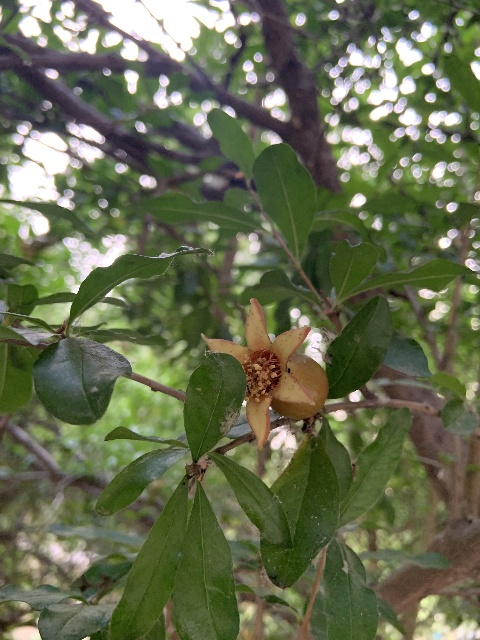early-fruit: (203, 297, 327, 449)
